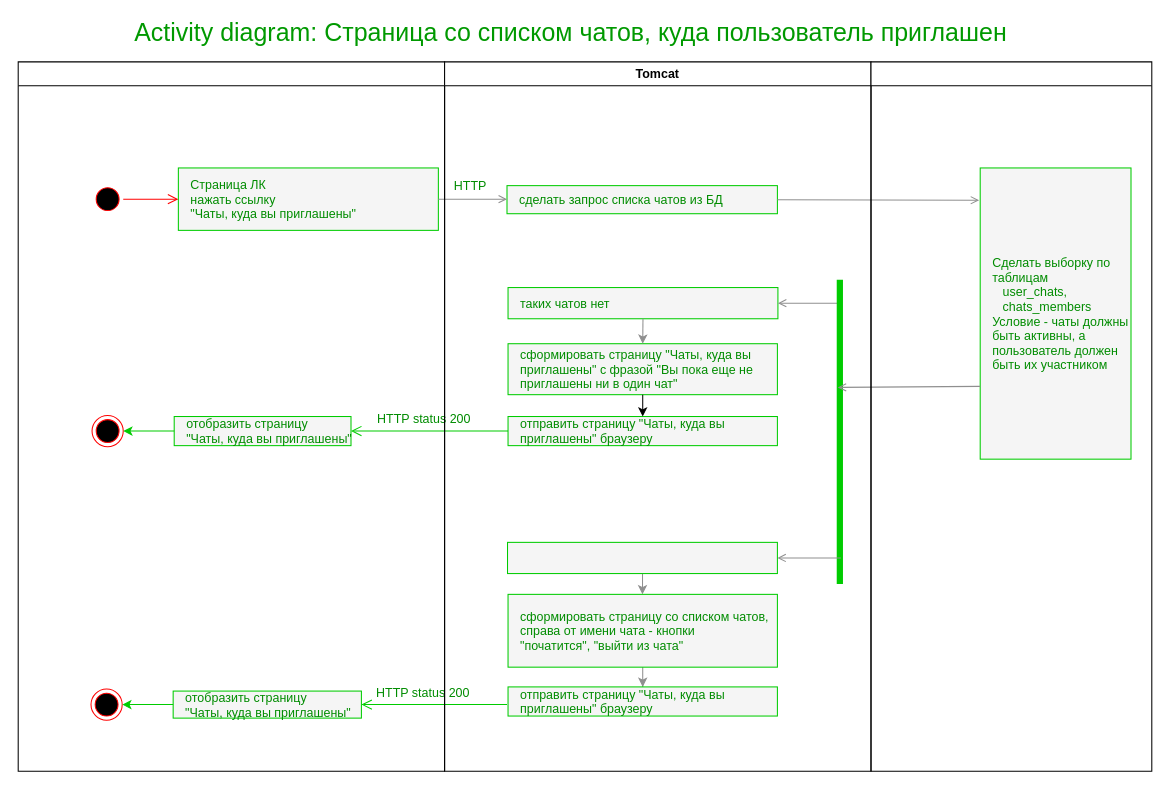
Some shapes in this 1170 by 789 pixel diagram are drawn without their labels. The shapes that lost their labels are listed below. From the top down, each one's centre as x and y in pixels, then its label:
point (231, 416): Браузер
point (1011, 416): PostgreSQL
point (641, 557): есть список таких чатов
